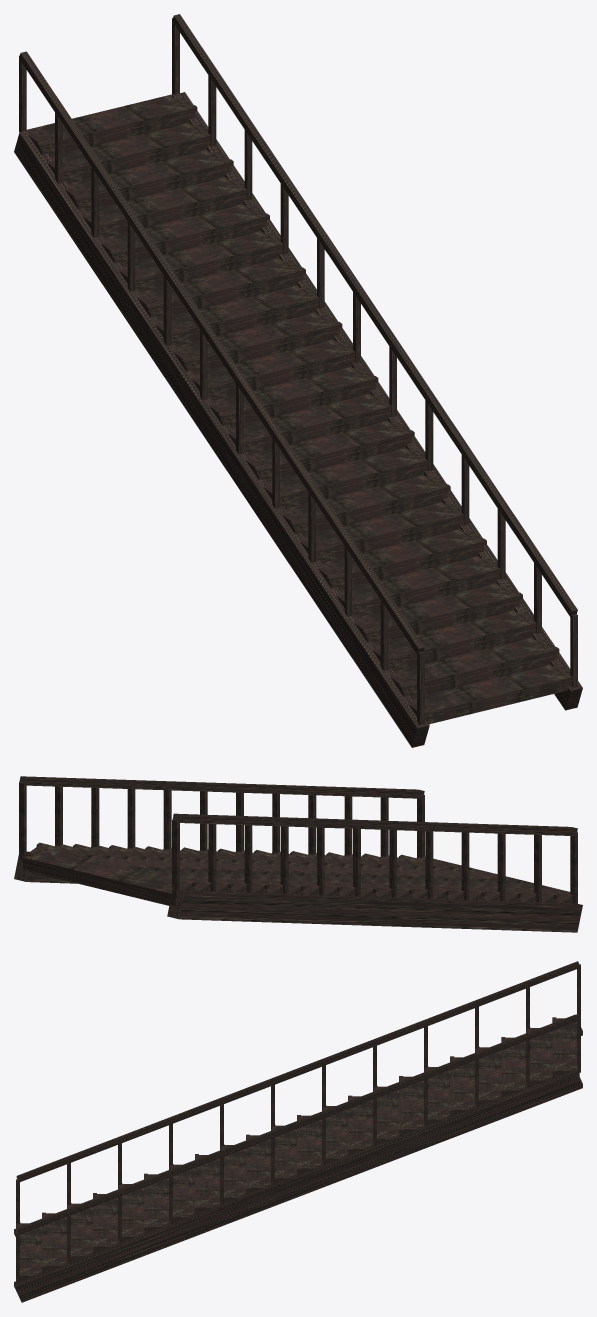
The model's file is tea_stairs.glb.
3 views of the same model, one above another, from view 1: azimuth 30°, elevation 25°; view 2: azimuth 150°, elevation 25°; view 3: azimuth 270°, elevation 25° (orthographic). The views are drawn at different scales.
Visible parts, largest first — view 1: tea_stairs0; view 2: tea_stairs0; view 3: tea_stairs0.
Part boxes in pixels (bbox=[...]): tea_stairs0: bbox=[14, 14, 582, 747]; tea_stairs0: bbox=[14, 776, 582, 932]; tea_stairs0: bbox=[14, 961, 582, 1302].
Size of the model in its own units: 2.16 by 5.06 by 9.12.
1 material, 1 textured.
